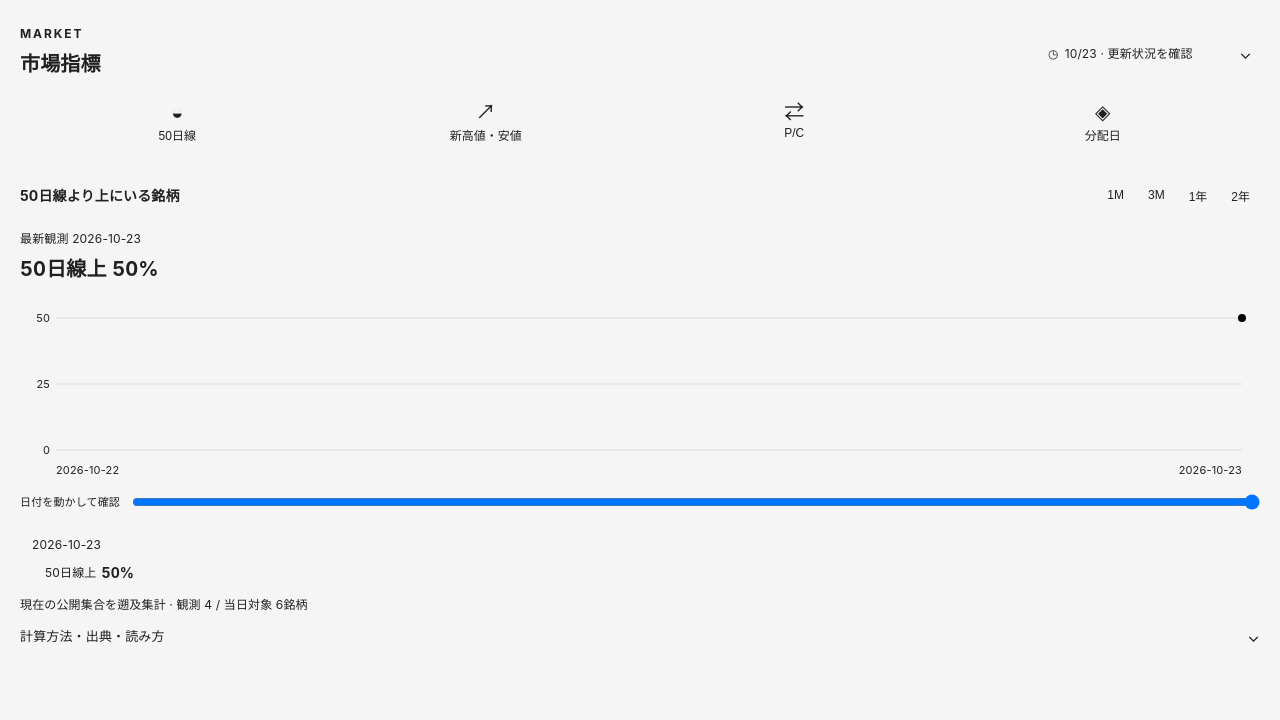
Test case: market trend dashboard › shows a trend immediately and moves date with the accessible scrubber; formula starts closed
Expected: the picture named "50日線上の割合" is shown, top-left (20, 296), bottom-right (1260, 480)
Set the slider to "0": (140, 502) top-left (132, 480), bottom-right (1260, 524)
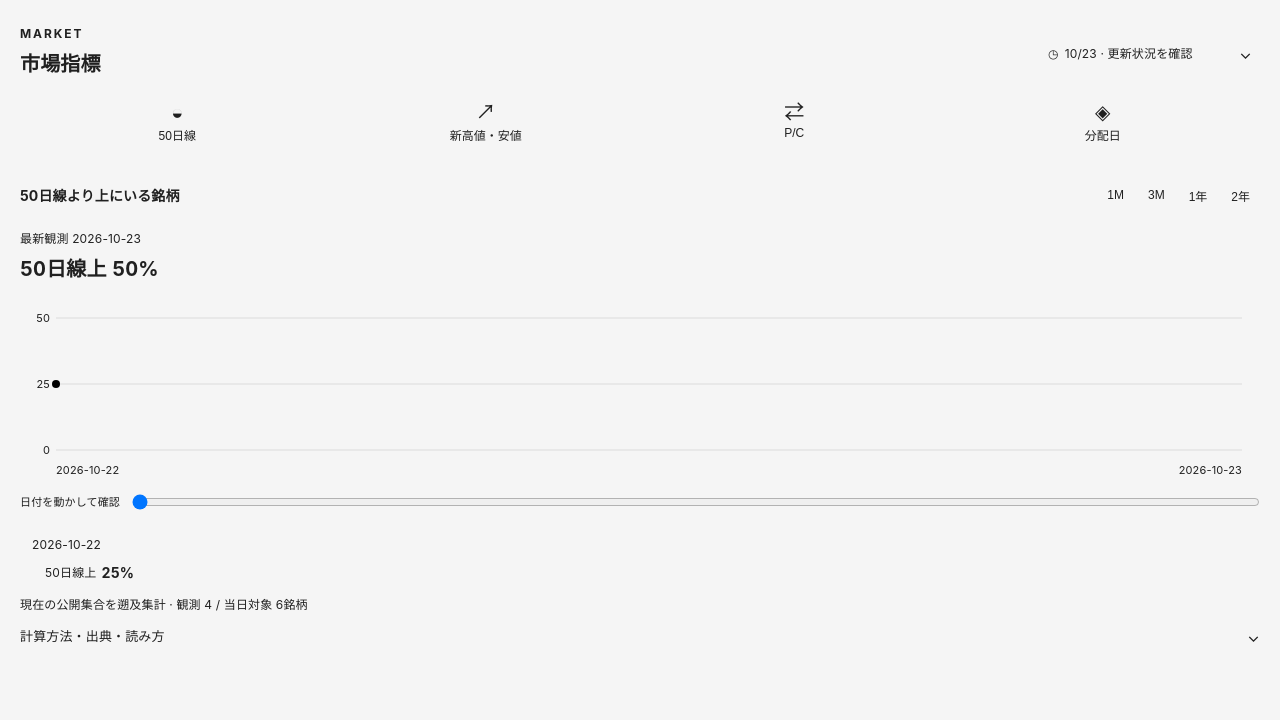
Expected: the text "25%" is shown, top-left (102, 562), bottom-right (134, 583)
